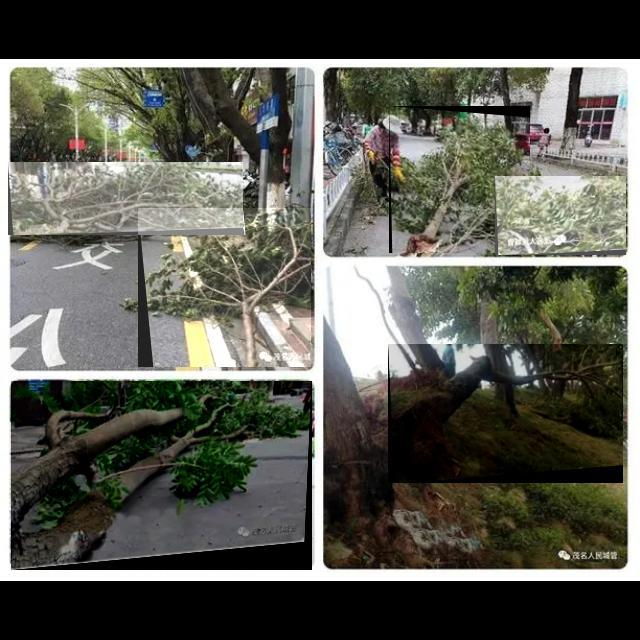fallen_tree: (11, 381, 313, 571), (388, 344, 624, 484), (138, 208, 312, 368), (389, 106, 531, 254), (8, 162, 244, 236), (495, 176, 627, 256)
